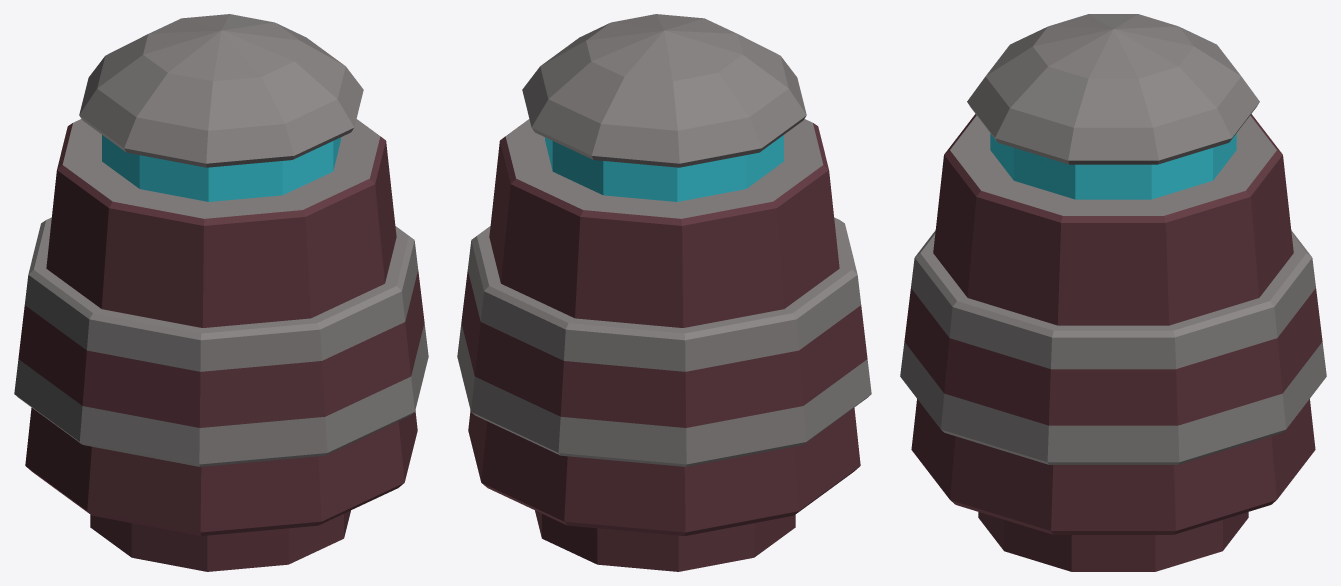
File: scifi-generator-small.fbx
3 views of the same model, side by side, from view 1: azimuth 30°, elevation 25°; view 2: azimuth 150°, elevation 25°; view 3: azimuth 270°, elevation 25° (orthographic).
Parts seen in each view (by area): view 1: scifi-generator-small; view 2: scifi-generator-small; view 3: scifi-generator-small.
Part boxes in pixels (x1,y1,x2,y2): scifi-generator-small: [14, 14, 428, 571]; scifi-generator-small: [457, 14, 871, 571]; scifi-generator-small: [900, 14, 1326, 571].
Bounding box in the file's own units: 2 × 2.66 × 2.1.
